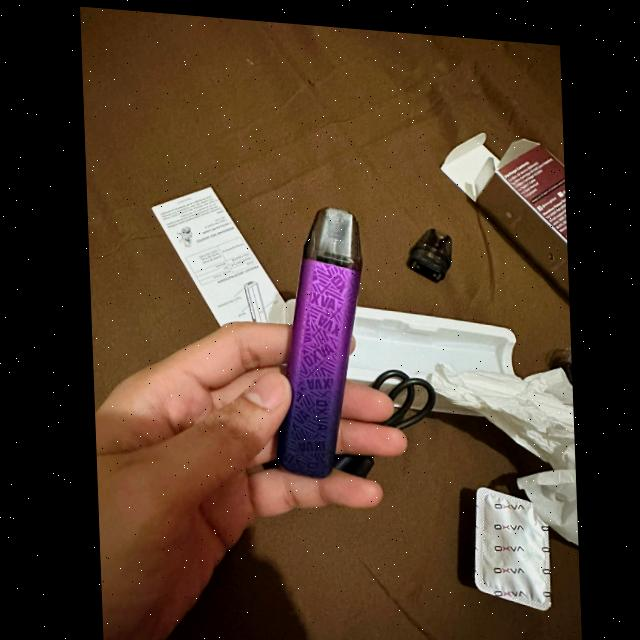vape: (266, 196, 367, 479)
